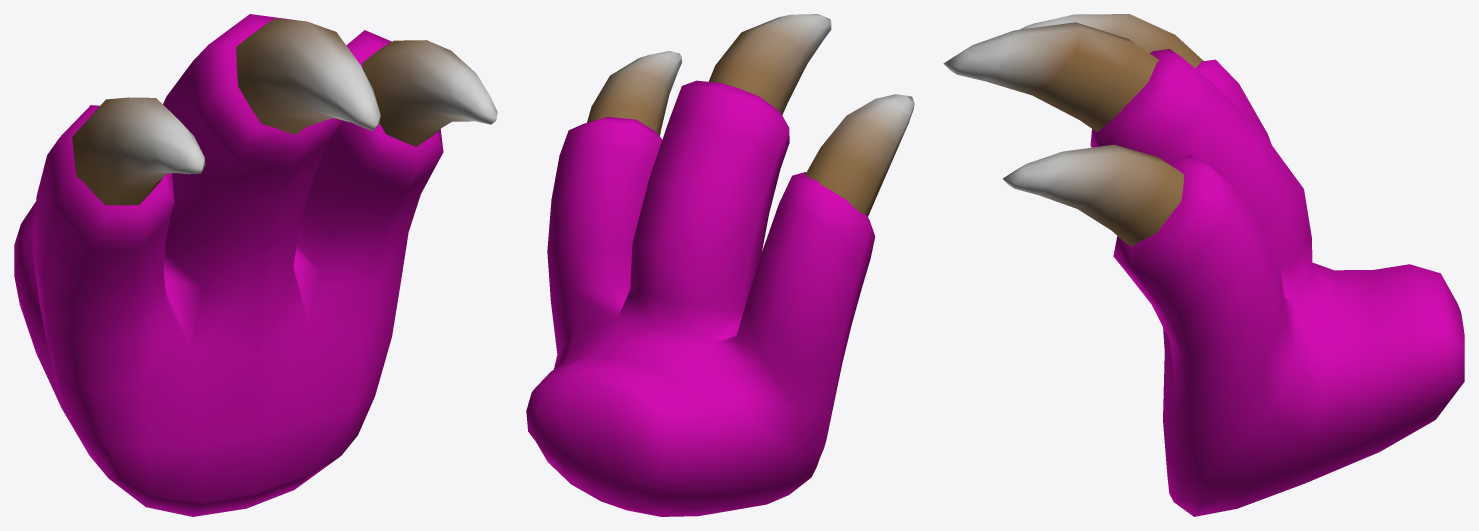
The model's file is item_claws.fbx.
3 views of the same model, side by side, from view 1: azimuth 30°, elevation 25°; view 2: azimuth 150°, elevation 25°; view 3: azimuth 270°, elevation 25° (orthographic). The views are drawn at different scales.
Parts seen in each view (by area): view 1: item_claws; view 2: item_claws; view 3: item_claws.
Part boxes in pixels (<box>): item_claws: <box>14,14,497,516</box>; item_claws: <box>526,14,914,516</box>; item_claws: <box>943,14,1464,516</box>.
Bounding box in the file's own units: 1.46 × 1.99 × 2.
